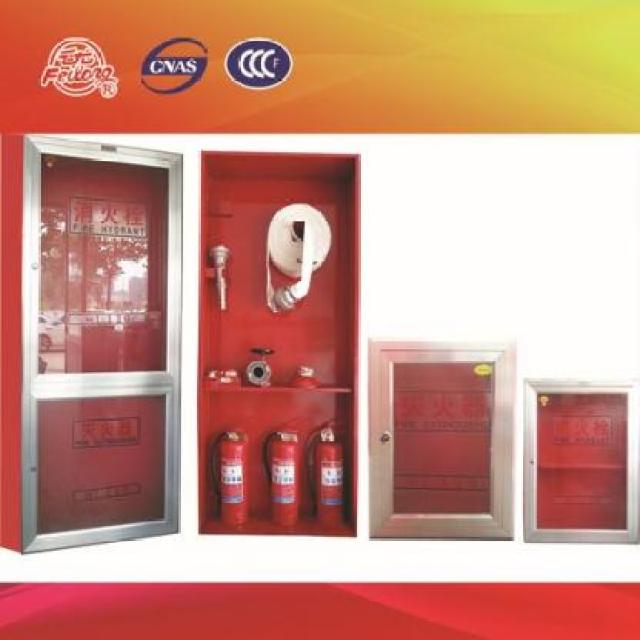firehydrant: (2, 126, 185, 559), (191, 146, 364, 542), (363, 337, 519, 545), (518, 374, 640, 547)
